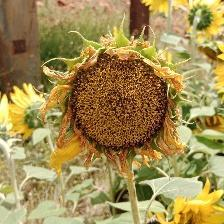sunflower: (32, 9, 199, 181), (164, 181, 224, 224), (7, 77, 42, 144), (185, 1, 224, 39), (191, 103, 224, 136)
